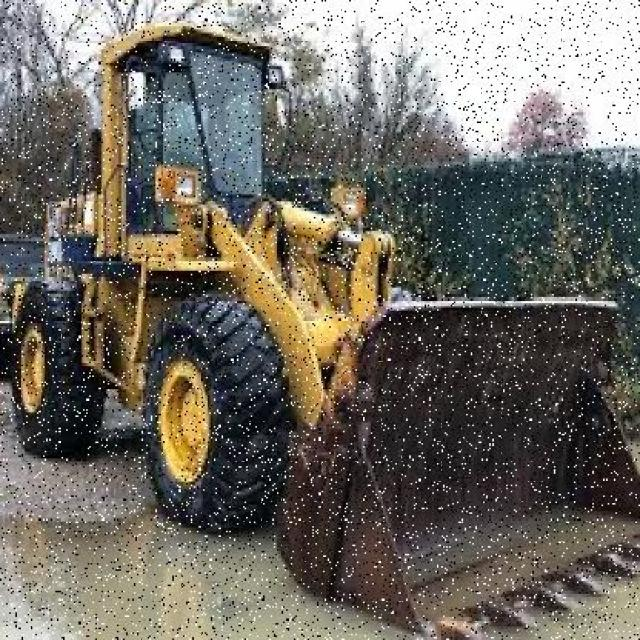buldozerpayloadergrader: (12, 26, 640, 622)
